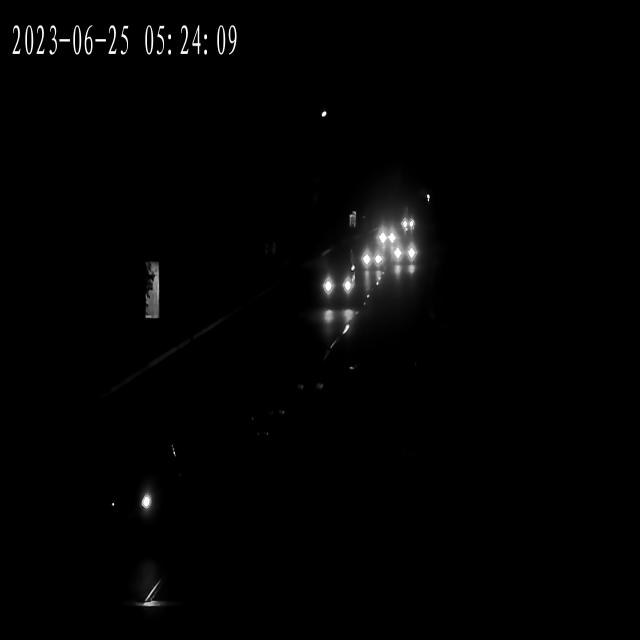Car: (92, 437, 176, 551), (324, 250, 358, 304), (394, 233, 416, 274), (364, 244, 383, 277), (377, 223, 396, 252), (399, 211, 415, 233)
